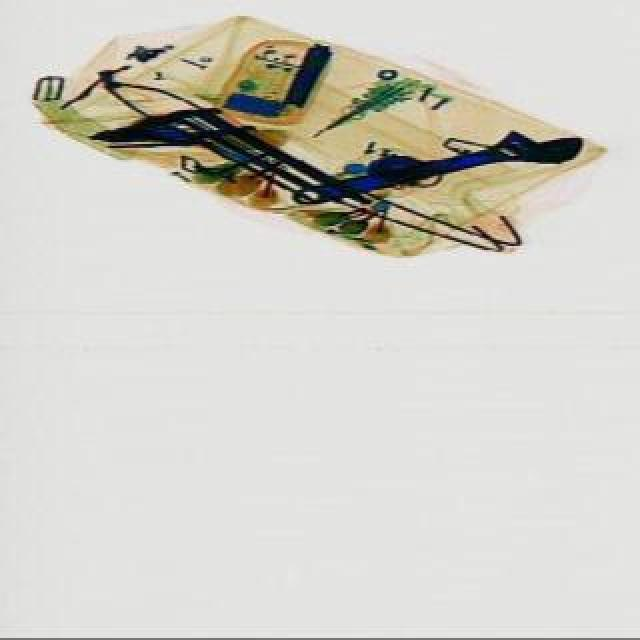scissors: (282, 114, 584, 214)
wrench: (84, 96, 252, 158)
